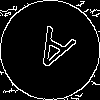A: (25, 25, 77, 82)
